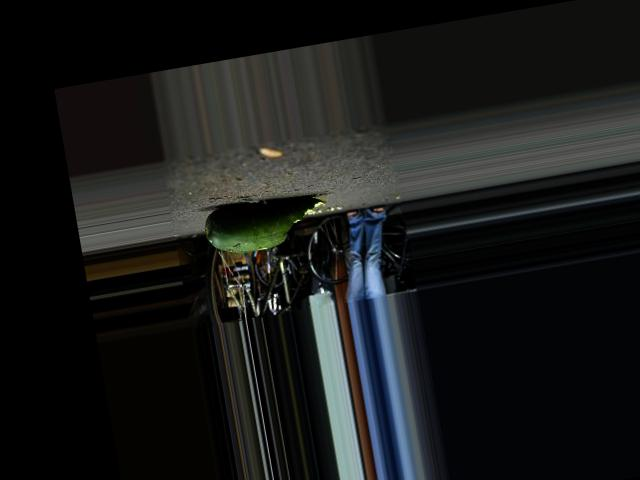cucumber: (202, 189, 333, 258)
